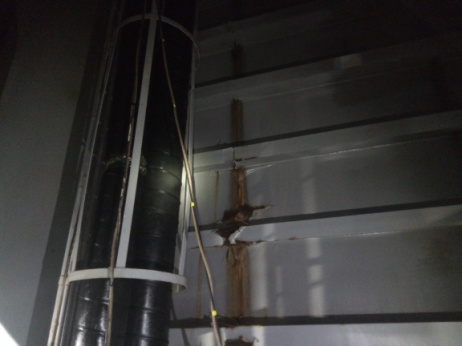corrosion: (213, 247, 263, 315), (227, 168, 261, 217), (221, 39, 254, 76), (220, 103, 251, 140), (221, 331, 265, 346)
